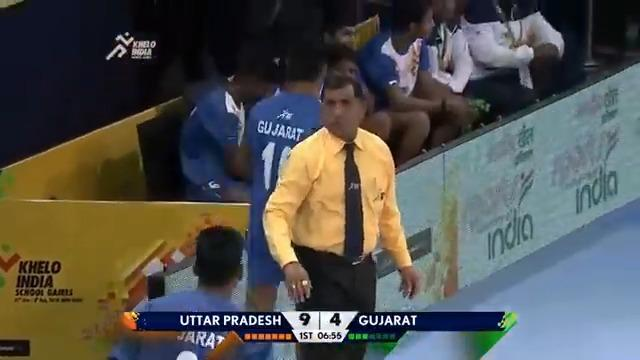Player: (233, 42, 330, 313), (355, 0, 475, 162), (124, 224, 258, 358), (432, 0, 565, 121)
referee: (261, 71, 422, 358)
